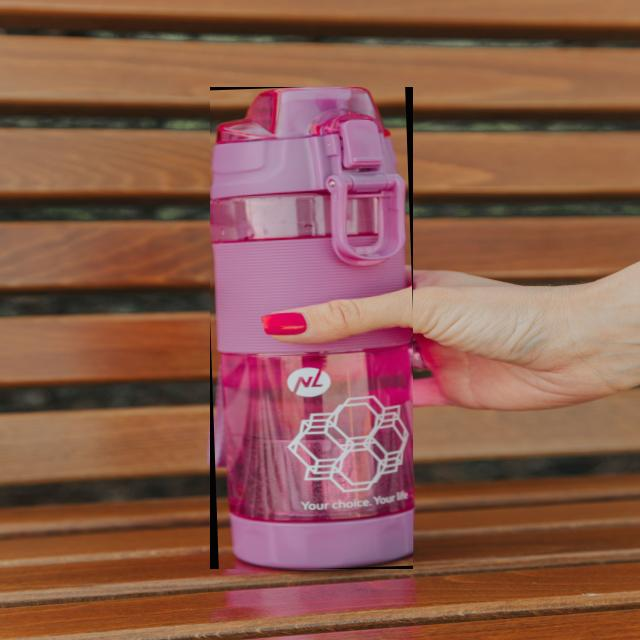Bottle: (210, 88, 413, 569)
